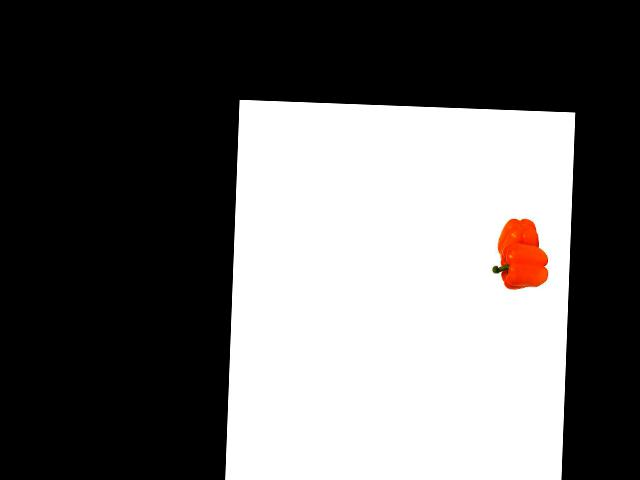bell_pepper: (495, 214, 545, 260)
